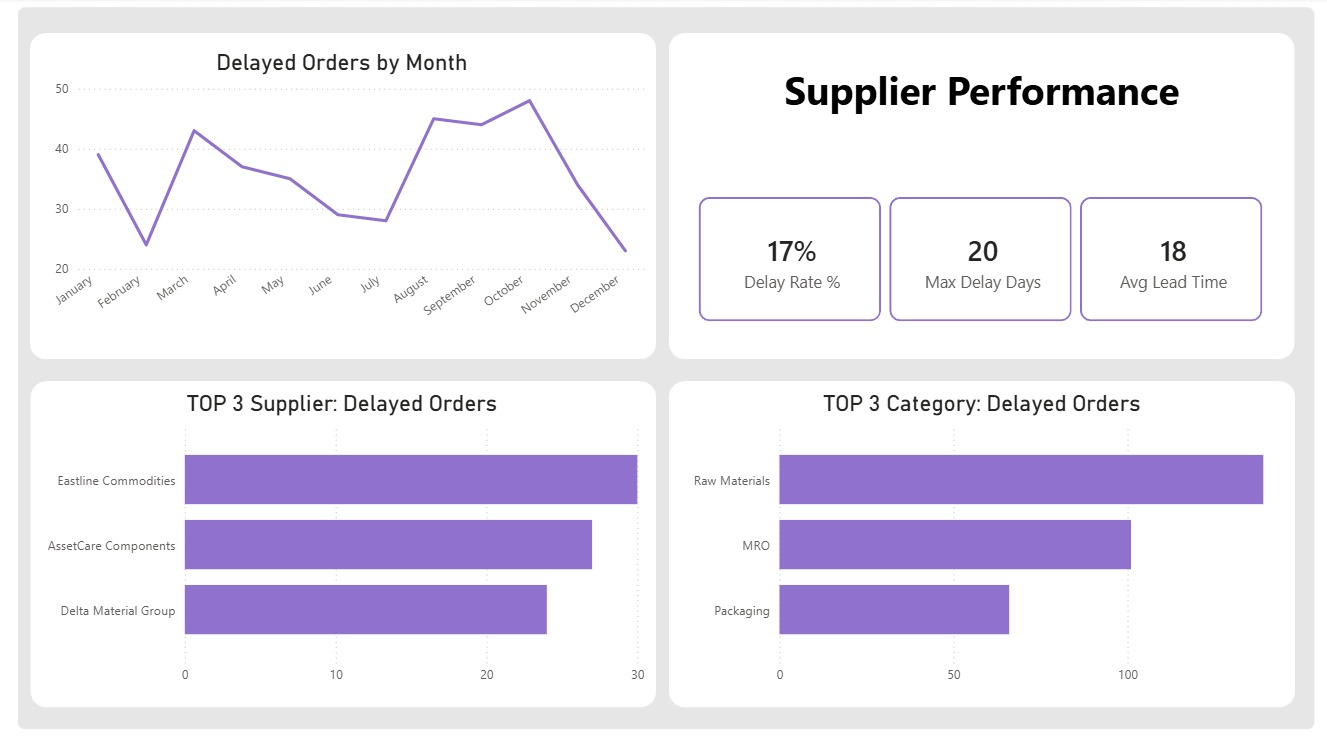

The page's visual inventory and layout, read from the dashboard file:
{"tool":"powerbi","page":{"name":"Supplier Perfomance","canvas":[1280,720],"ordinal":1},"visuals":[{"type":"barChart","title":"TOP 3 Supplier: Delayed Orders","fields":{"Category":["dim_suppliers.supplier_name"],"Y":["fact_purchase_orders.Delayed Lines"]},"box":[32.6,380,594.8,292],"z":4000},{"type":"barChart","title":"TOP 3 Category: Delayed Orders","fields":{"Category":["dim_products.category"],"Y":["fact_purchase_orders.Delayed Lines"]},"box":[657.5,380,580.3,292],"z":5000},{"type":"lineChart","title":"Delayed Orders by Month","fields":{"Category":["dim_date.month_name"],"Y":["fact_purchase_orders.Delayed Lines"]},"box":[32.6,50.7,594.8,279.9],"z":7001},{"type":"textbox","box":[657.5,59.1,580.3,82],"z":7002},{"type":"cardVisual","fields":{"Data":["fact_purchase_orders.Delay Rate %","fact_purchase_orders.Max Delay Days","fact_purchase_orders.Avg Lead Time"]},"box":[657.5,176.1,580.3,154.4],"z":7003}]}

Visuals, with their boxes in screenshot pixels (x1, y1, x2, y2), scaled from the page's 1280x720 canvas onto the 1327x742 screenshot:
"TOP 3 Supplier: Delayed Orders" barChart: BBox(34, 392, 650, 693)
"TOP 3 Category: Delayed Orders" barChart: BBox(682, 392, 1283, 693)
"Delayed Orders by Month" lineChart: BBox(34, 52, 650, 341)
textbox: BBox(682, 61, 1283, 145)
cardVisual - fact_purchase_orders.Delay Rate % x fact_purchase_orders.Max Delay Days: BBox(682, 181, 1283, 341)
